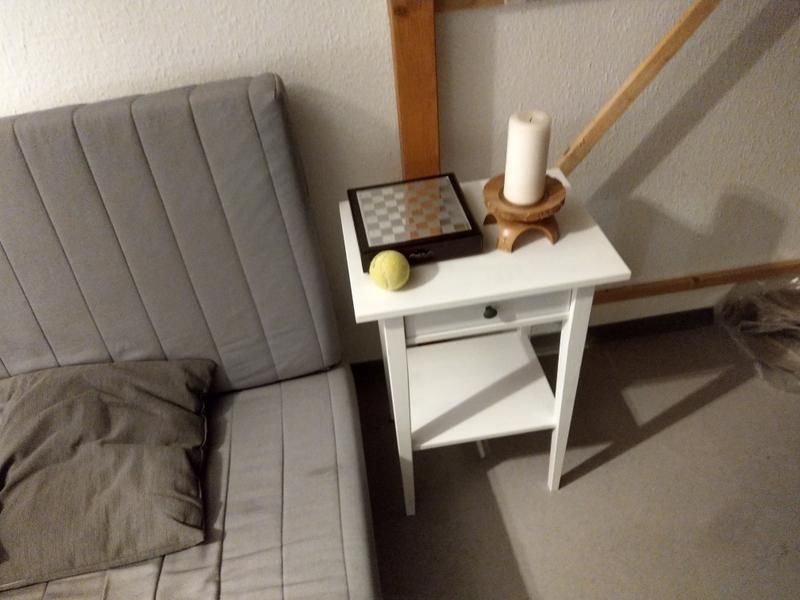Tennisball: (368, 246, 411, 295)
